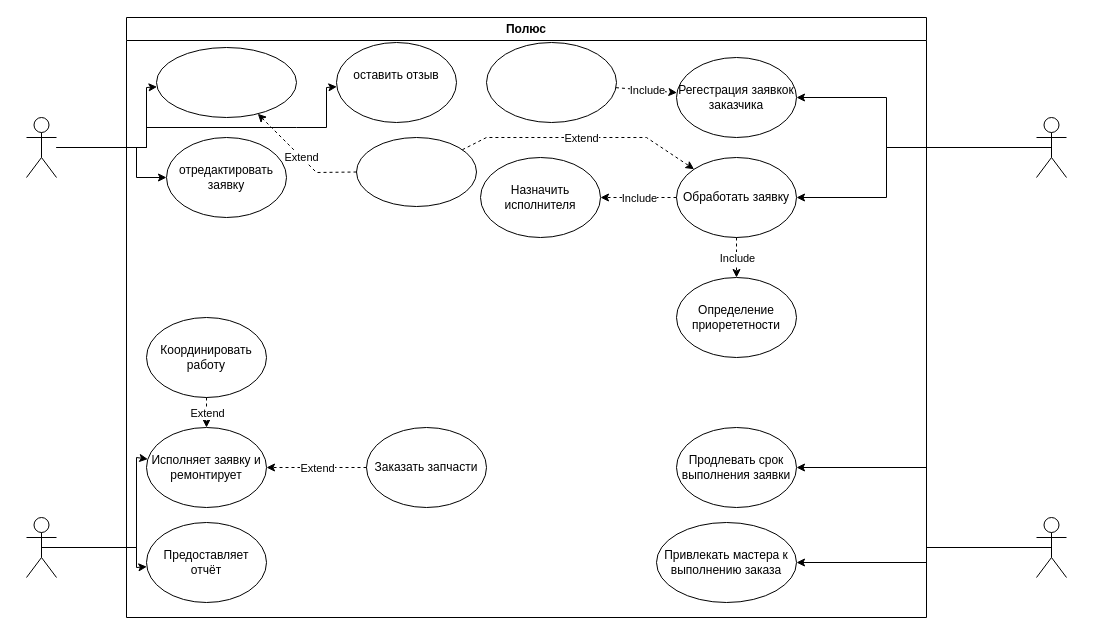
Image size: 1098x635. Some labels were removed from this diagram. The centre of each missing label's shape, as x and y in pixels:
Заказчик: point (41, 147)
Мастер: point (41, 547)
Менеджер: point (1051, 547)
Оператор: point (1051, 147)
Оставить заявку: point (226, 82)
Присвоение уникального индентификационного номера: point (551, 82)
Уточнить детали заявки: point (416, 171)
